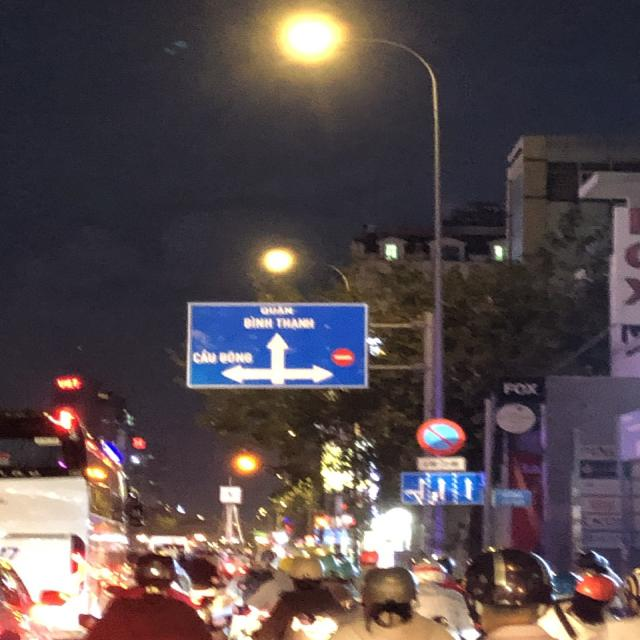Bien bao cam do xe: (409, 413, 475, 459)
